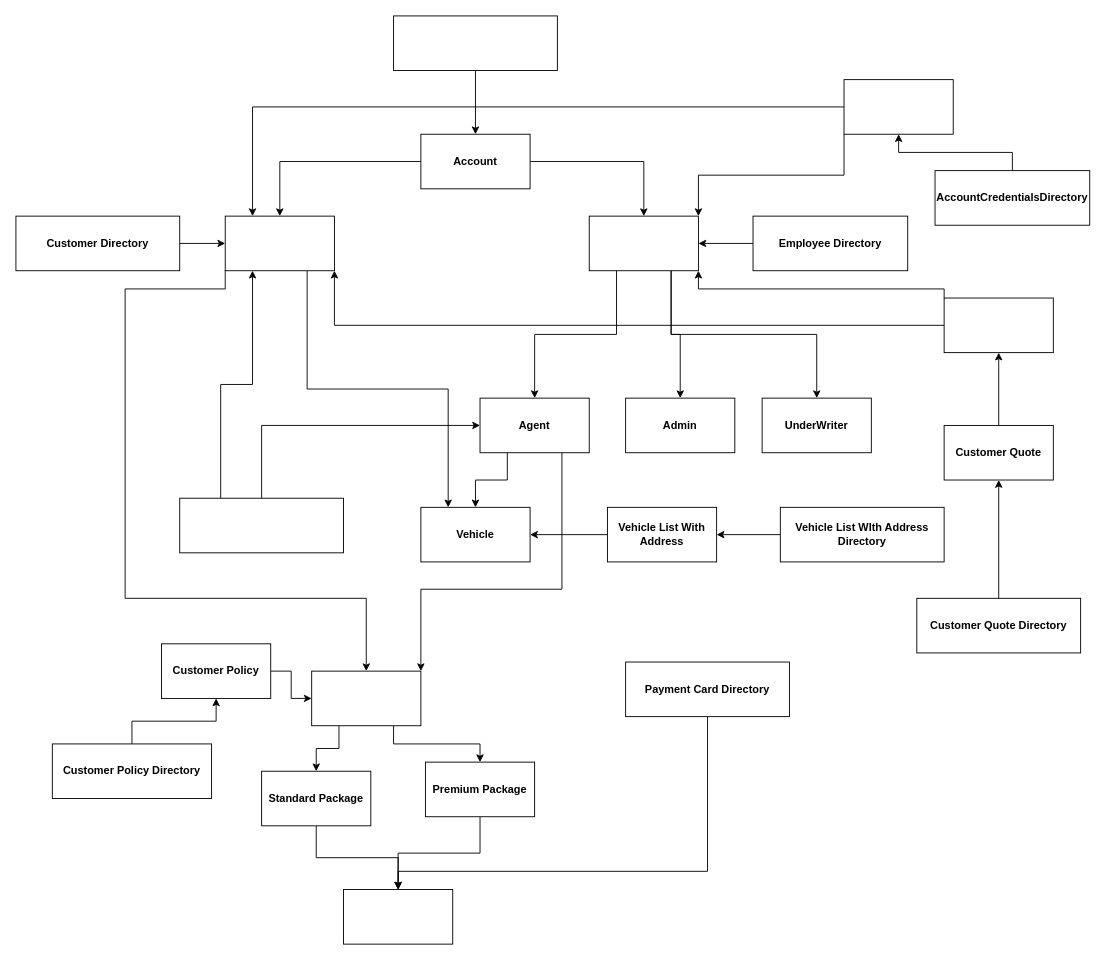
Some shapes in this 1106 by 960 pixel diagram are drawn without their labels. Here are the shapes that lost their labels. From the top down, the box of each, then its label:
(393, 15, 557, 71): Account Directory
(843, 79, 953, 134): Account Credentials
(224, 215, 334, 271): Customer
(588, 215, 698, 271): Employee
(943, 297, 1053, 353): Quote
(179, 497, 344, 553): VIN Directory
(311, 670, 421, 726): Policy
(343, 889, 453, 944): Payment Card
